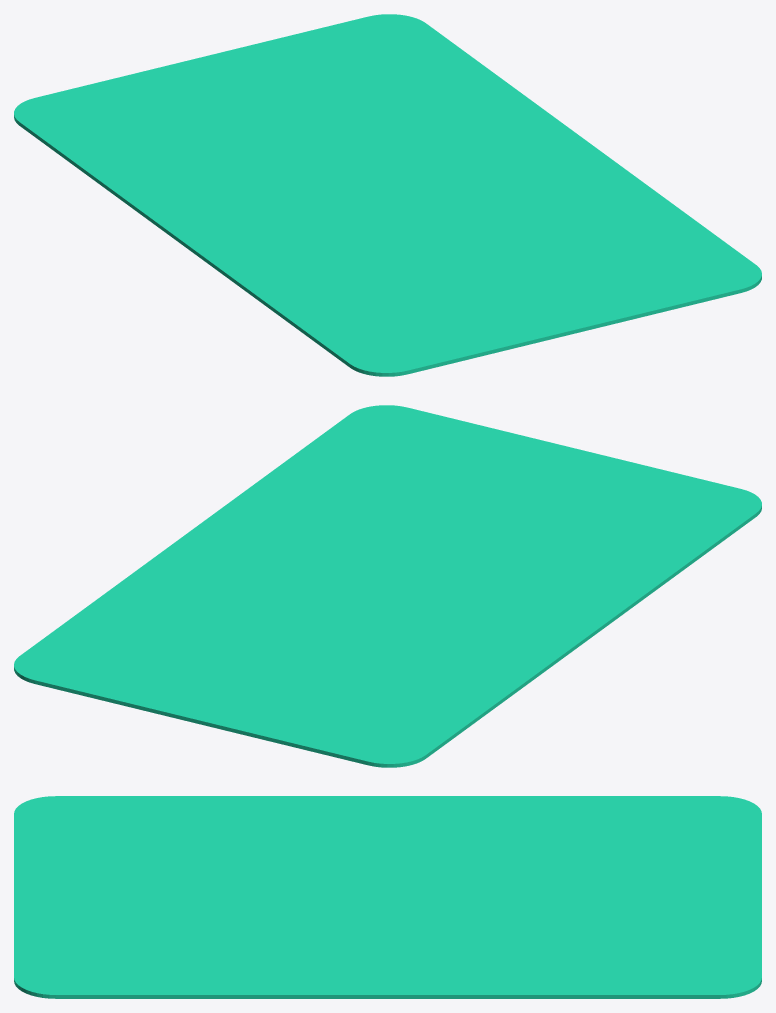
The model's file is CartaMonopoly.fbx.
The picture shows the model from 3 angles, top to bottom: view 1: azimuth 30°, elevation 25°; view 2: azimuth 150°, elevation 25°; view 3: azimuth 270°, elevation 25°; orthographic projection.
Parts seen in each view (by area): view 1: Cube; view 2: Cube; view 3: Cube.
Part boxes in pixels (bbox=[...]): Cube: bbox=[14, 14, 761, 376]; Cube: bbox=[14, 405, 761, 767]; Cube: bbox=[14, 796, 761, 998].
Bounding box in the file's own units: 56000 × 500 × 89000.
